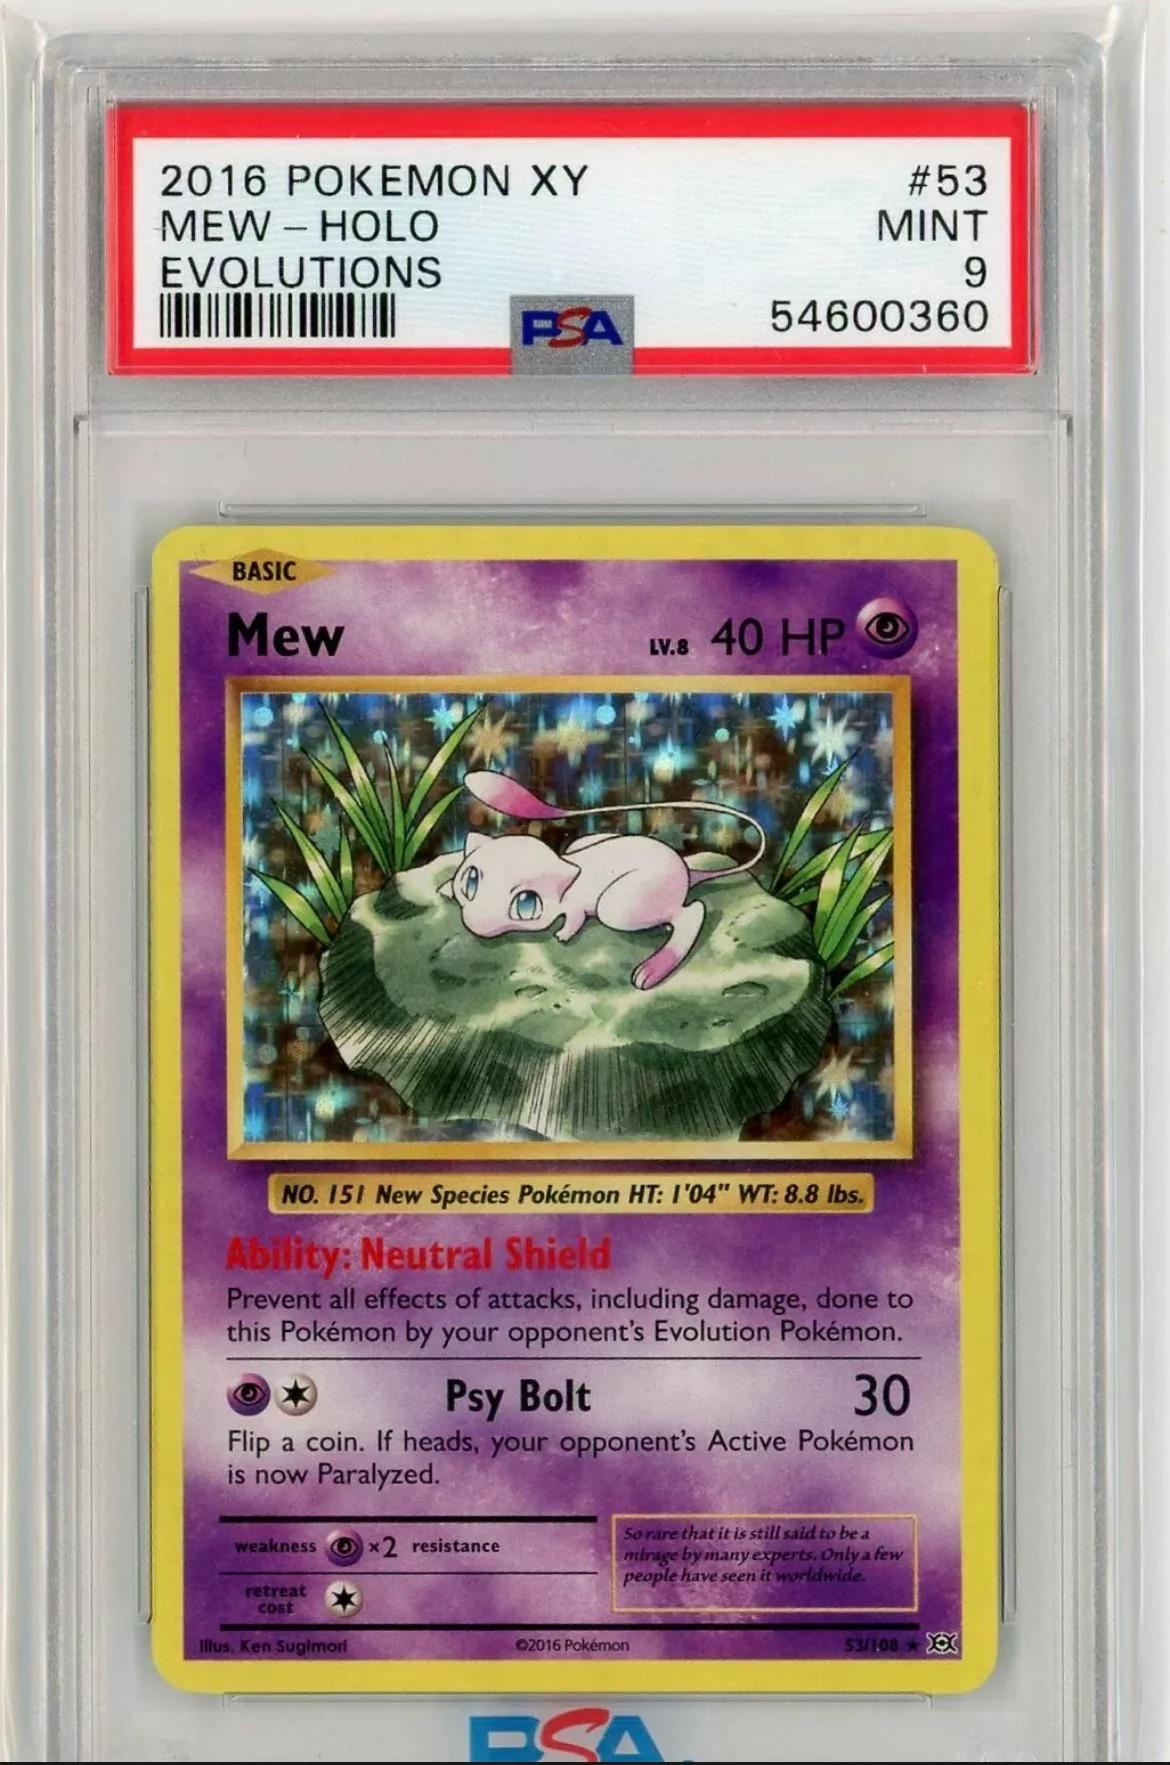card: (148, 523, 1005, 1696)
